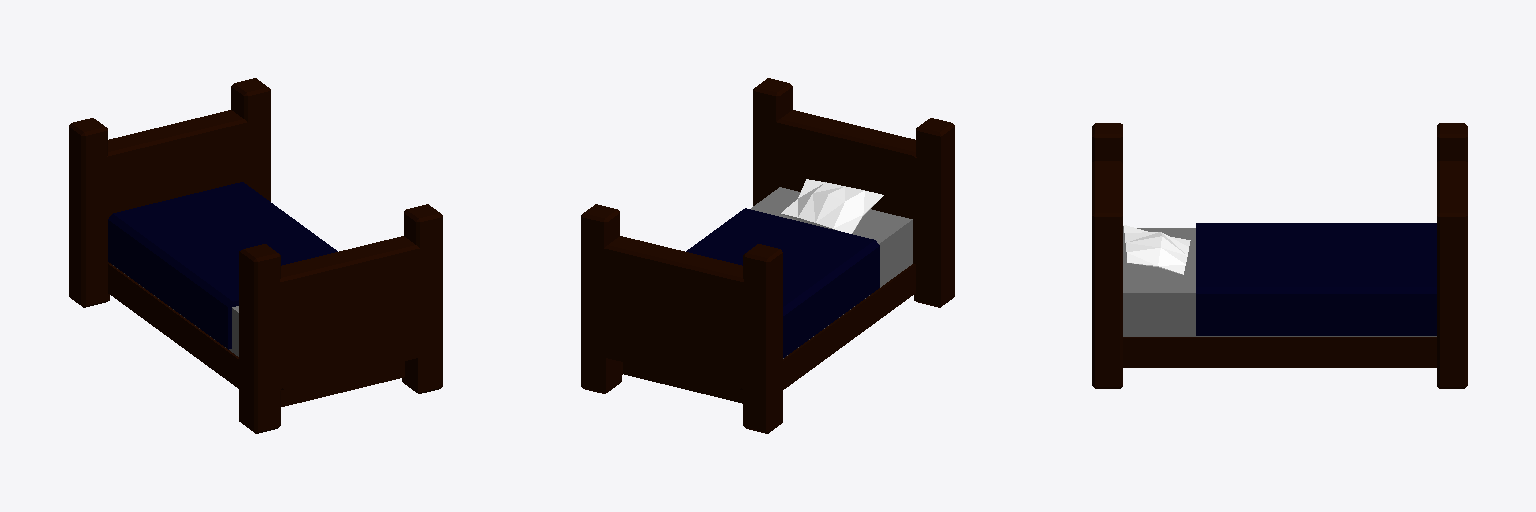
The model's file is Bed_single.obj.
The picture shows the model from 3 angles: view 1: azimuth 30°, elevation 25°; view 2: azimuth 150°, elevation 25°; view 3: azimuth 270°, elevation 25°; orthographic projection.
Visible parts, largest first — view 1: Bed_Single_Cube.006; view 2: Bed_Single_Cube.006; view 3: Bed_Single_Cube.006.
Boxes of the visible parts, x1,y1,x2,y2 form: Bed_Single_Cube.006: [69, 78, 442, 433]; Bed_Single_Cube.006: [581, 78, 954, 433]; Bed_Single_Cube.006: [1092, 123, 1467, 388].
Bounding box in the file's own units: 1.62 × 1.44 × 2.78.